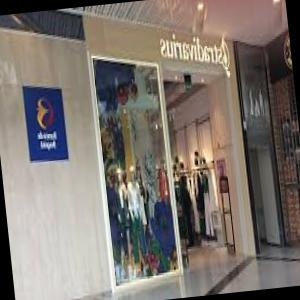stradivarius: (144, 20, 300, 52)
